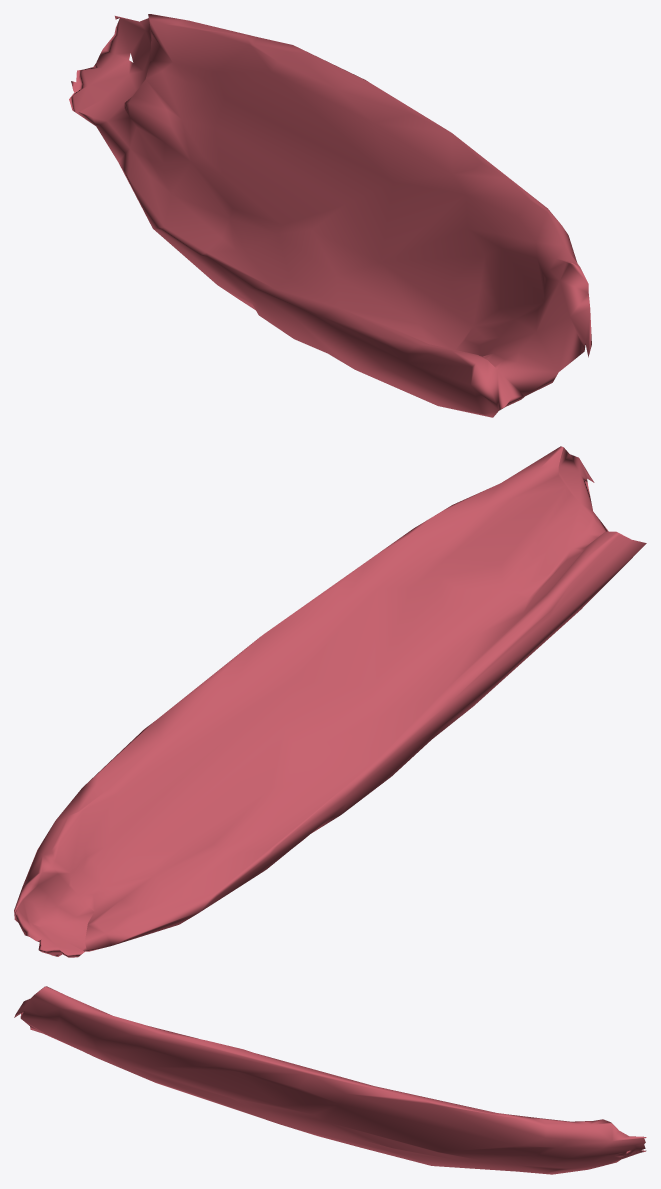
3 views of the same model, one above another, from view 1: azimuth 30°, elevation 25°; view 2: azimuth 150°, elevation 25°; view 3: azimuth 270°, elevation 25° (orthographic). The views are drawn at different scales.
Parts seen in each view (by area): view 1: 右侧小指展肌; view 2: 右侧小指展肌; view 3: 右侧小指展肌.
Part boxes in pixels (x1=…): 右侧小指展肌: x1=69, y1=14, x2=591, y2=417; 右侧小指展肌: x1=14, y1=446, x2=646, y2=957; 右侧小指展肌: x1=14, y1=986, x2=646, y2=1174.
Bounding box in the file's own units: 0.0268 × 0.0279 × 0.0988.
